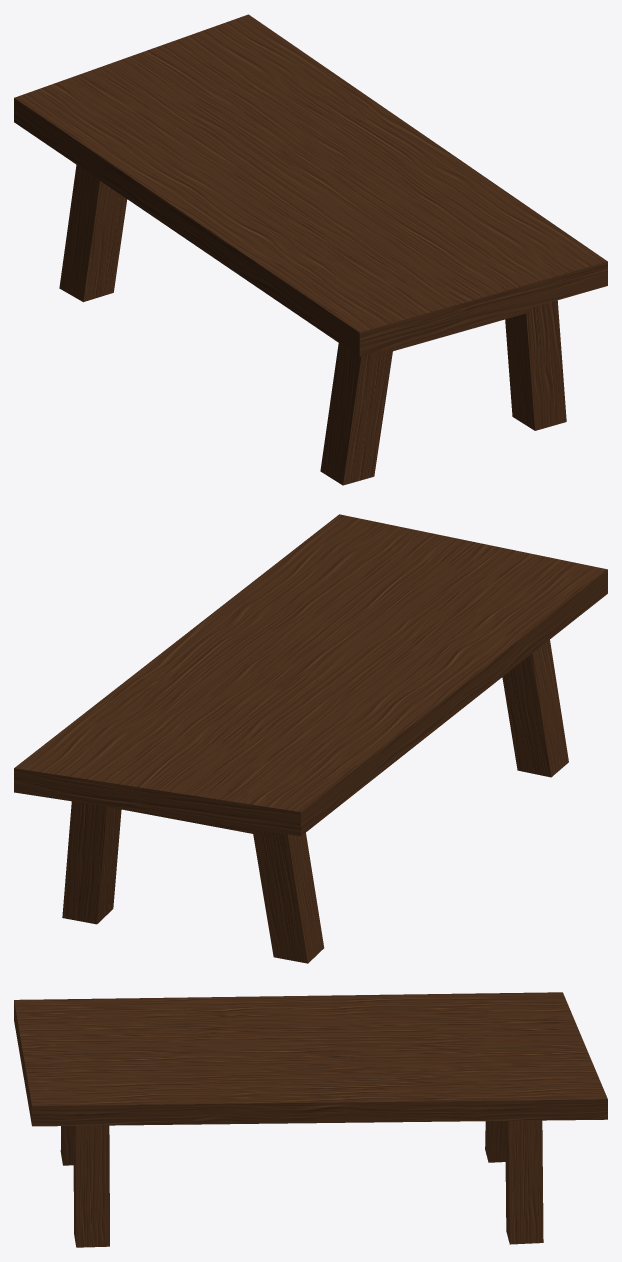
Rendered from Table.fbx.
The picture shows the model from 3 angles, top to bottom: view 1: azimuth 30°, elevation 25°; view 2: azimuth 150°, elevation 25°; view 3: azimuth 270°, elevation 25°; orthographic projection. The views are drawn at different scales.
Visible parts, largest first — view 1: Midnight_Antics_House_Build_V1.006; view 2: Midnight_Antics_House_Build_V1.006; view 3: Midnight_Antics_House_Build_V1.006.
Boxes of the visible parts, x1,y1,x2,y2 form: Midnight_Antics_House_Build_V1.006: (14, 14, 607, 485); Midnight_Antics_House_Build_V1.006: (14, 514, 607, 963); Midnight_Antics_House_Build_V1.006: (14, 992, 607, 1247).
Bounding box in the file's own units: 11894 × 7204 × 26245.
